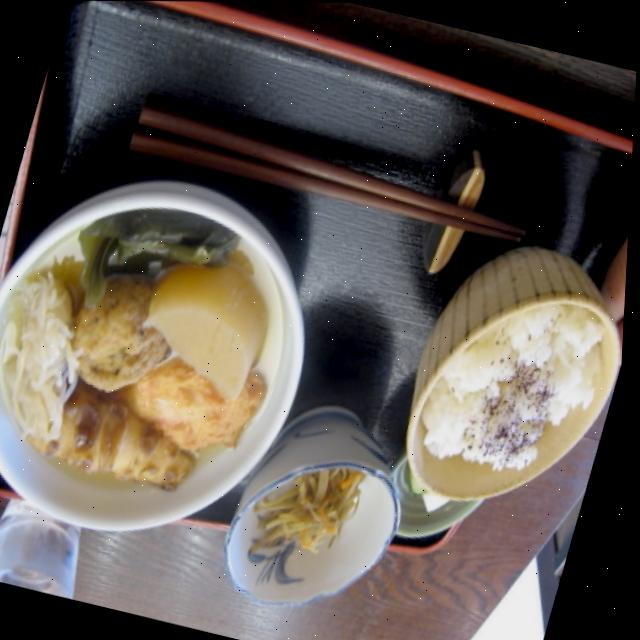汤锅炖物: (0, 176, 316, 512)
